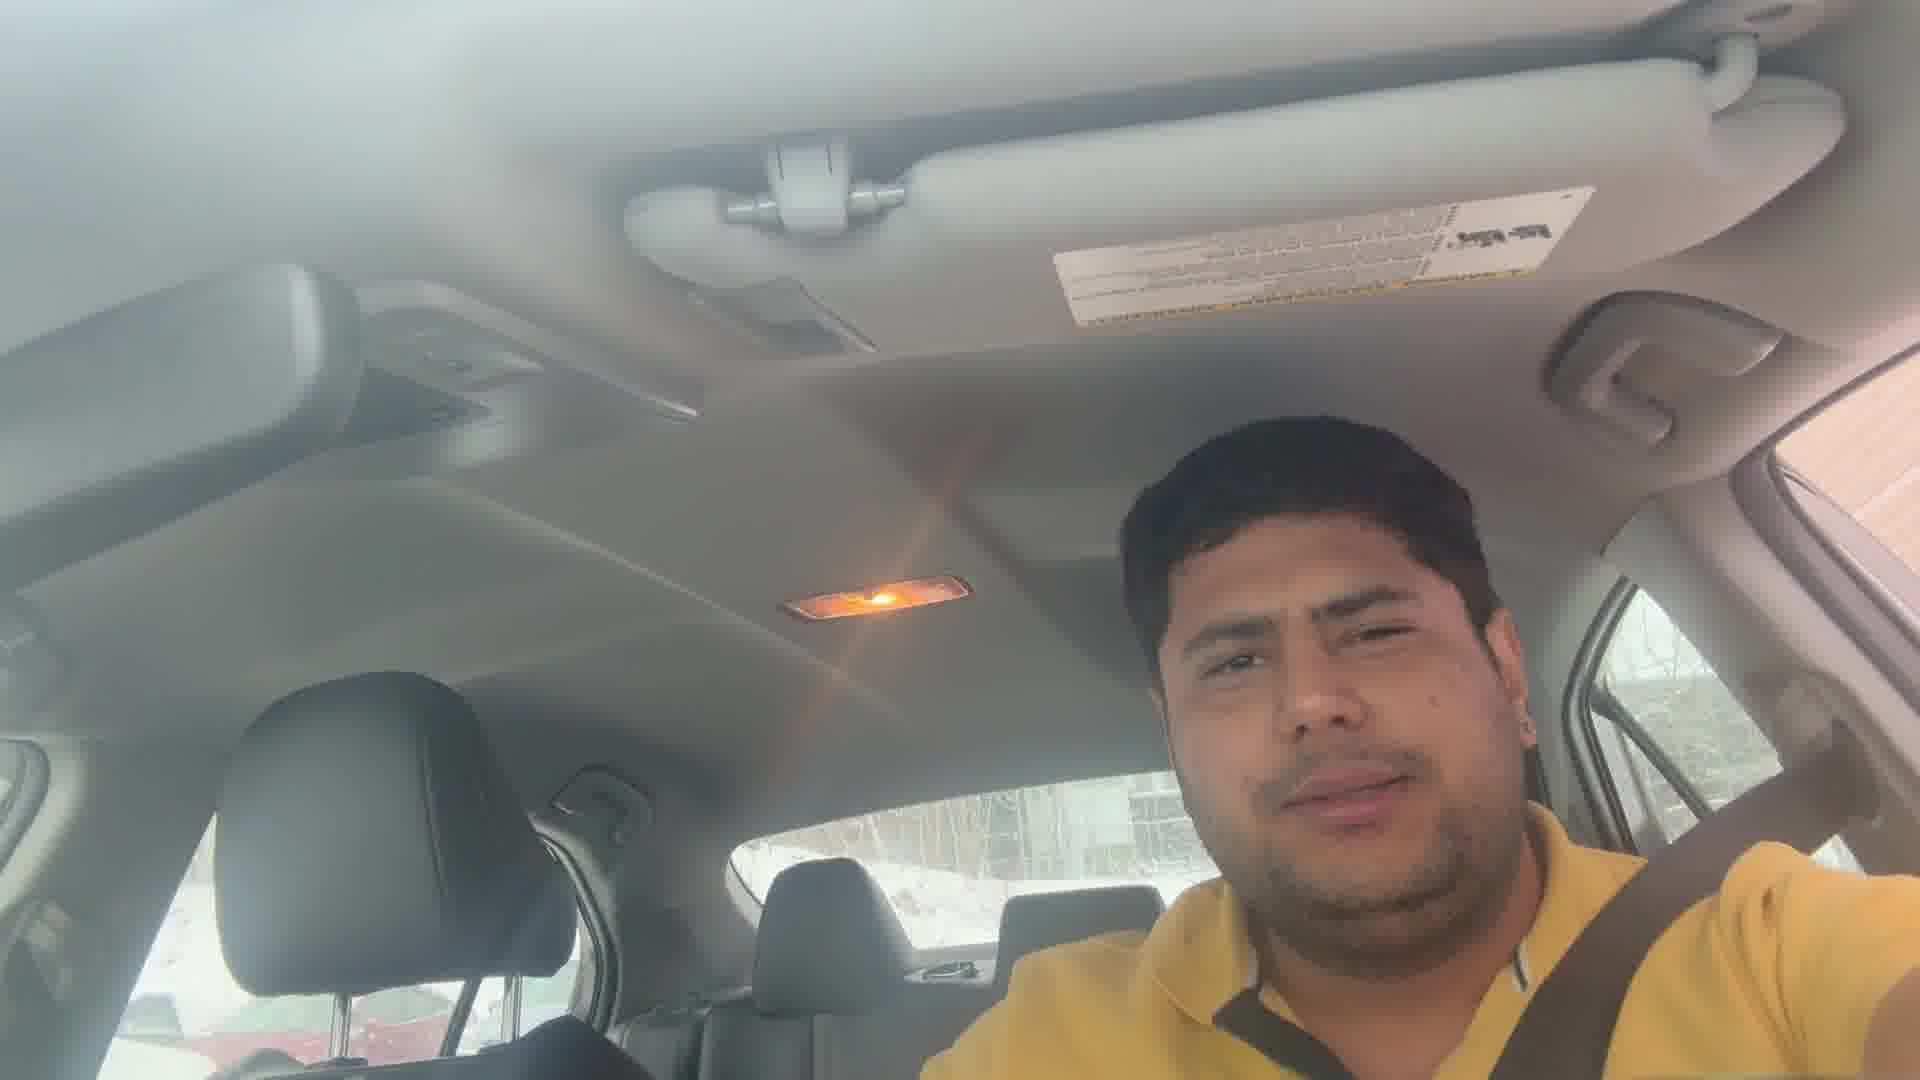seatbelt: (1112, 622, 1895, 1073)
